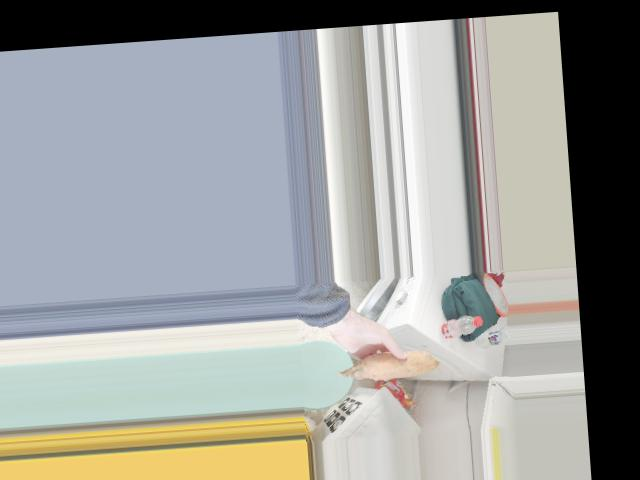sweet_potato: (345, 345, 428, 381)
